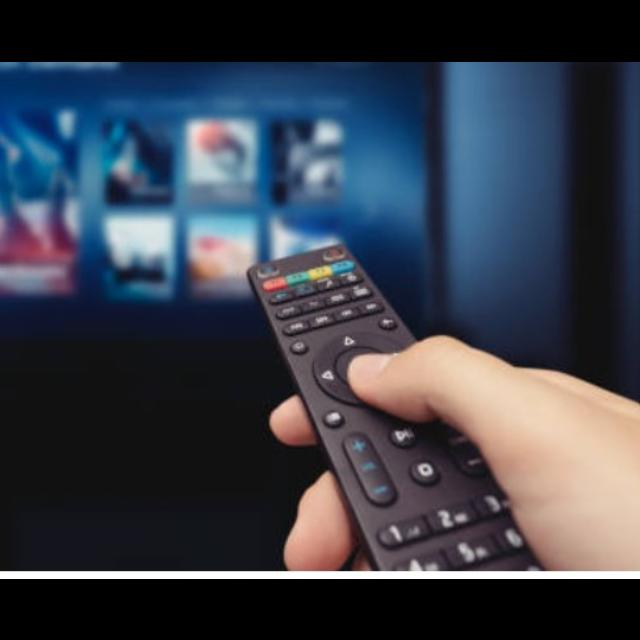TV-Remote-Control: (246, 242, 540, 574)
